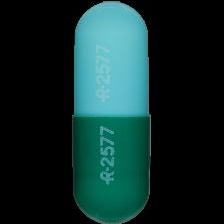54868-5081: (0, 0, 224, 224)
